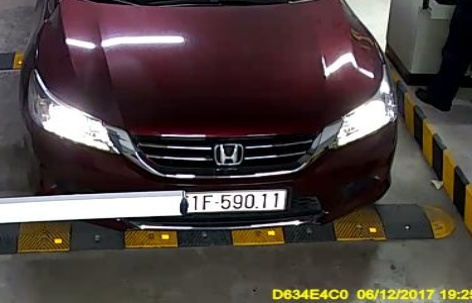plate: (183, 183, 294, 216)
